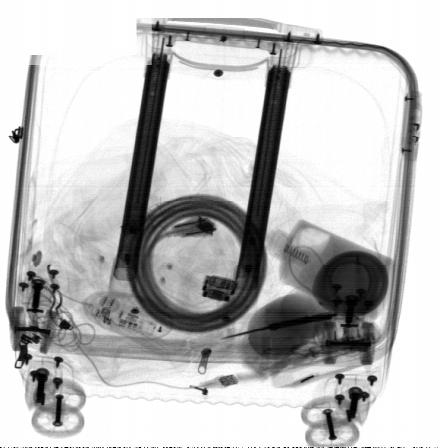Knife: (226, 313, 338, 337)
